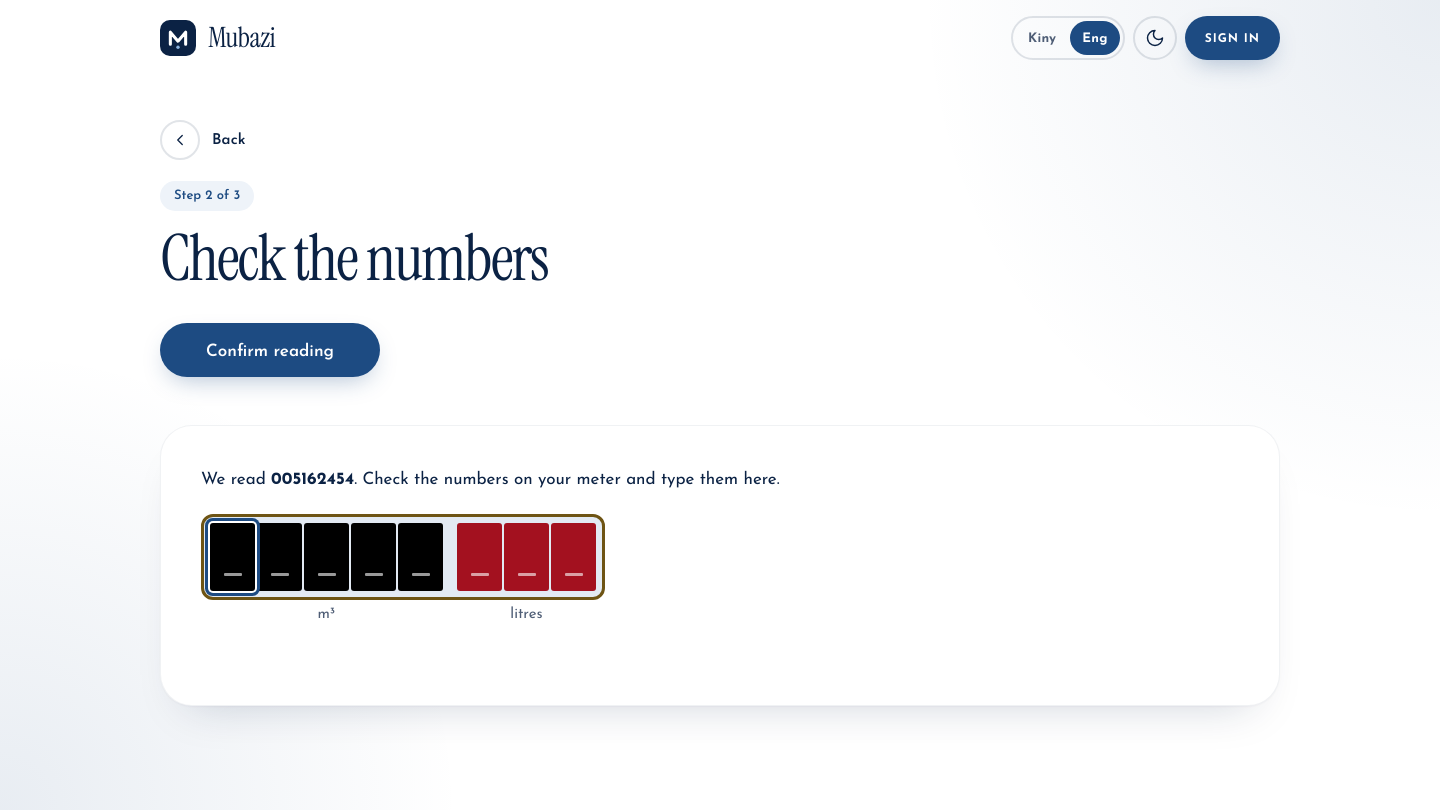
Test case: ConfirmReading › when numbers are missing, should ask for all 8 instead of sending
The image size is (1440, 810).
What coordinates should you click on to do the following:
click the button "Confirm reading"
I would click on:
 (270, 350)
Its box is [160,323,380,377].
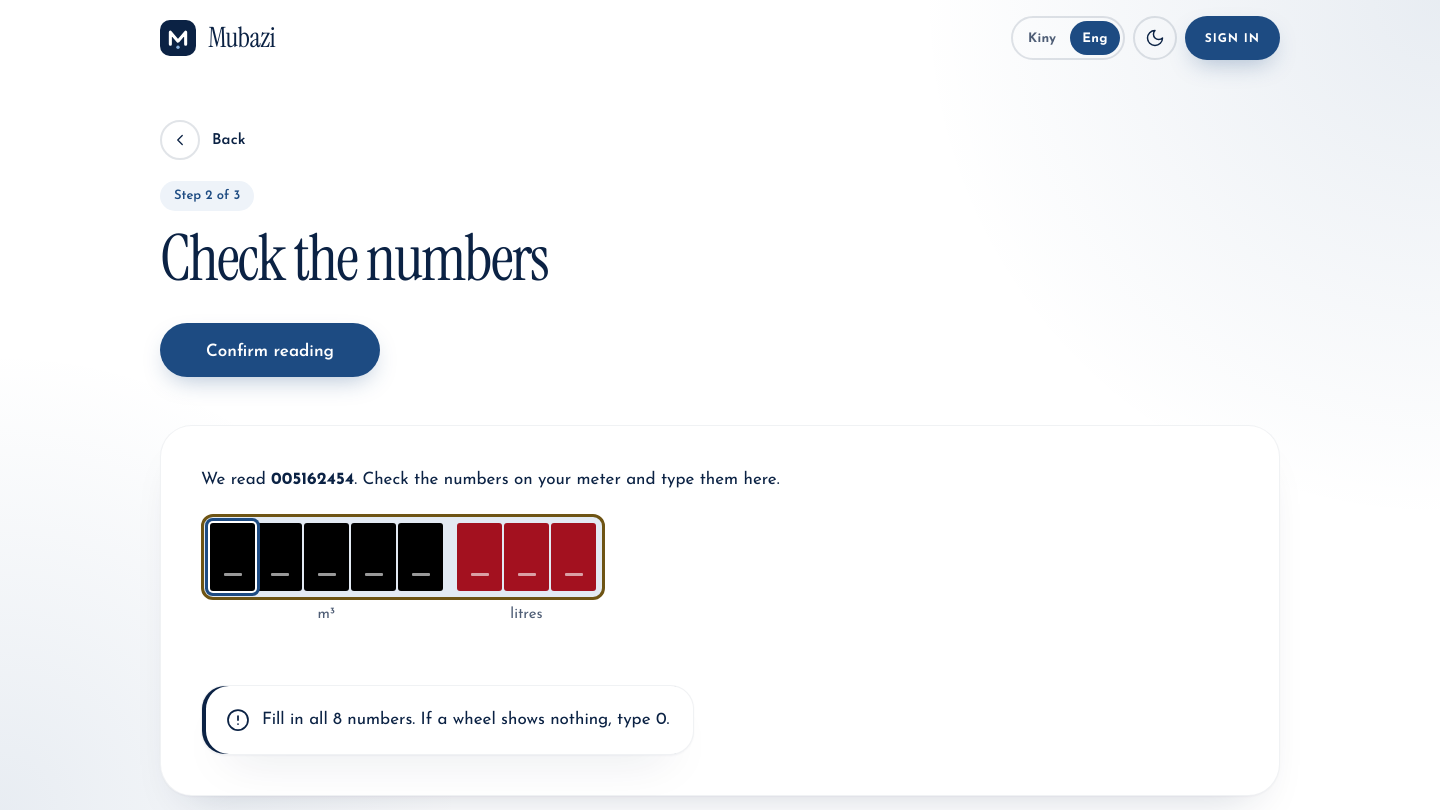
expect the message shows "Fill in all 8 numbers": met, box [262,711,669,728]
